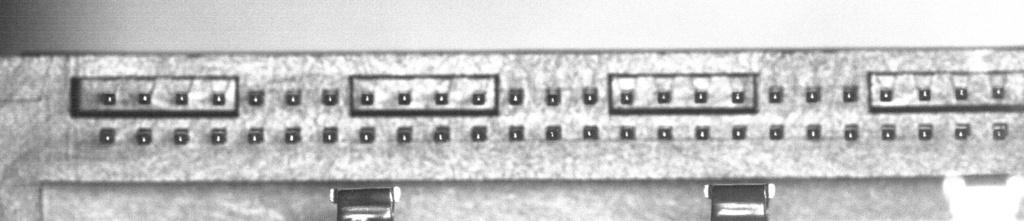pin_ok: (992, 122, 1010, 140), (582, 86, 599, 105), (99, 128, 116, 146), (432, 125, 450, 142), (396, 126, 413, 143), (247, 89, 264, 106), (284, 89, 301, 106), (321, 88, 338, 105), (507, 88, 524, 105), (545, 87, 561, 105), (136, 128, 152, 145), (173, 128, 189, 145), (322, 126, 338, 143), (210, 128, 227, 144), (284, 127, 301, 143), (358, 127, 375, 143), (843, 124, 859, 141), (768, 86, 784, 103), (247, 128, 263, 144), (508, 125, 524, 141), (471, 125, 487, 141), (917, 124, 933, 140), (619, 125, 636, 140), (842, 85, 857, 102), (769, 124, 784, 140), (881, 124, 896, 140), (731, 125, 747, 140), (545, 125, 561, 140), (954, 125, 970, 140), (805, 87, 821, 102), (806, 124, 821, 139), (583, 125, 598, 140), (695, 125, 710, 140), (472, 90, 487, 105), (731, 89, 746, 104), (397, 90, 412, 105), (619, 90, 634, 105), (657, 126, 672, 140), (657, 89, 671, 104), (954, 86, 969, 100), (917, 87, 932, 101), (100, 92, 116, 105), (694, 89, 708, 103), (879, 88, 893, 102), (993, 85, 1007, 99), (174, 92, 188, 105), (360, 92, 374, 105), (211, 92, 225, 105), (435, 91, 449, 104), (138, 92, 151, 104)
